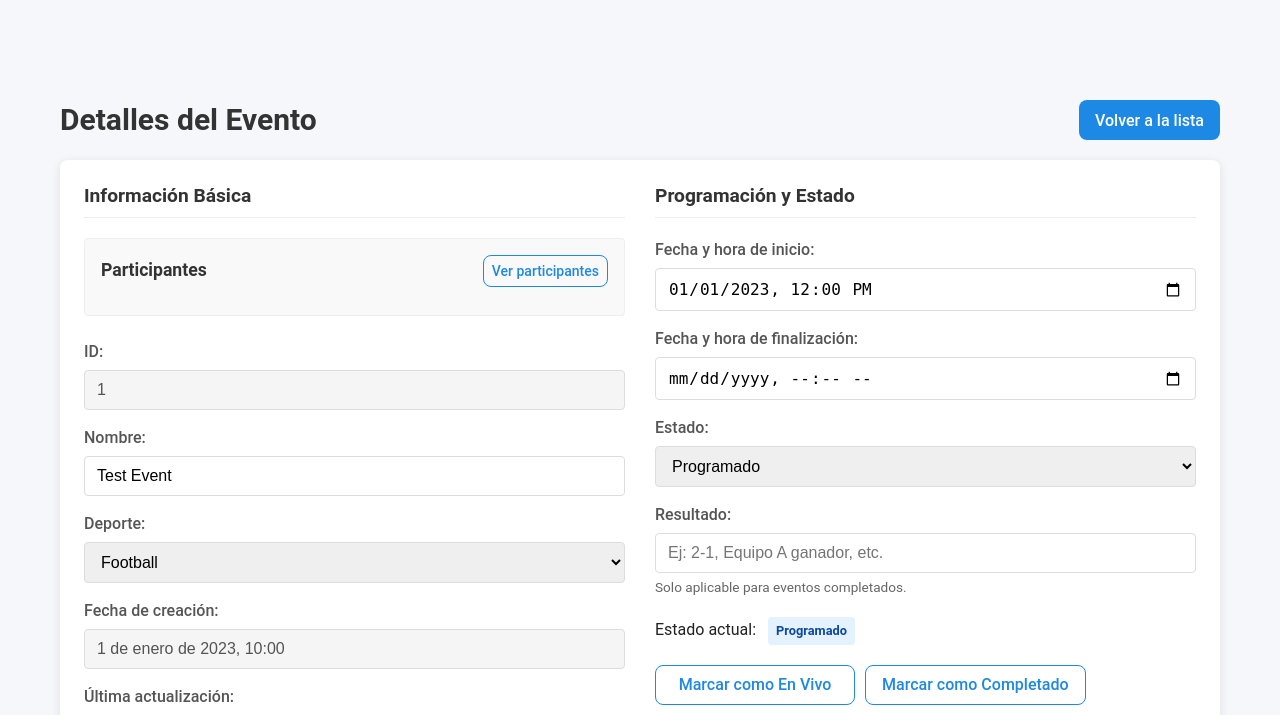
EventDetail Component › prevents changing status to COMPLETED without a result
Click on the Marcar como Completado button
Step 1. Click the button "Marcar como Completado" → (975, 685), box [865,665,1086,705]
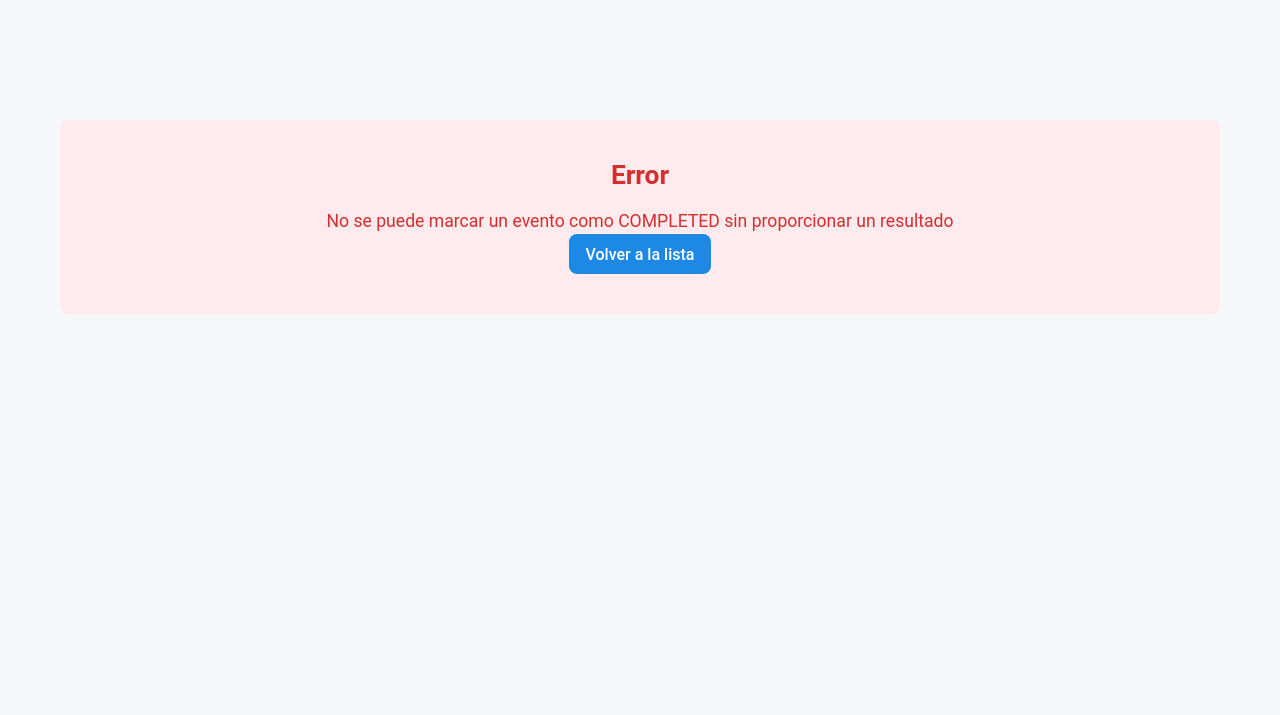
Expected: the text "No se puede marcar un evento como COMPLETED sin proporcionar un resultado" is shown, [326,211,954,231]
